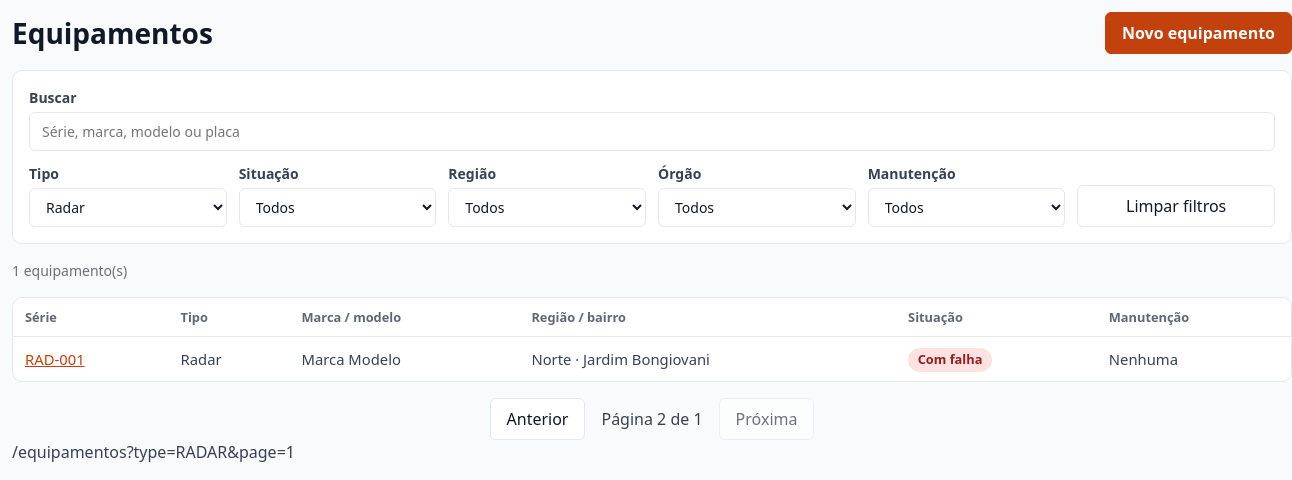
Scenario: EquipmentListPage › deveAtualizarUrlEVoltarParaPrimeiraPaginaQuandoMudaFiltro
The width and height of the screenshot is (1292, 480).
Expected: the link "RAD-001" is shown, [25, 349, 85, 369]
Select "Com falha" in the dropdown labelled "Situação" at (338, 208), box [239, 188, 436, 227]
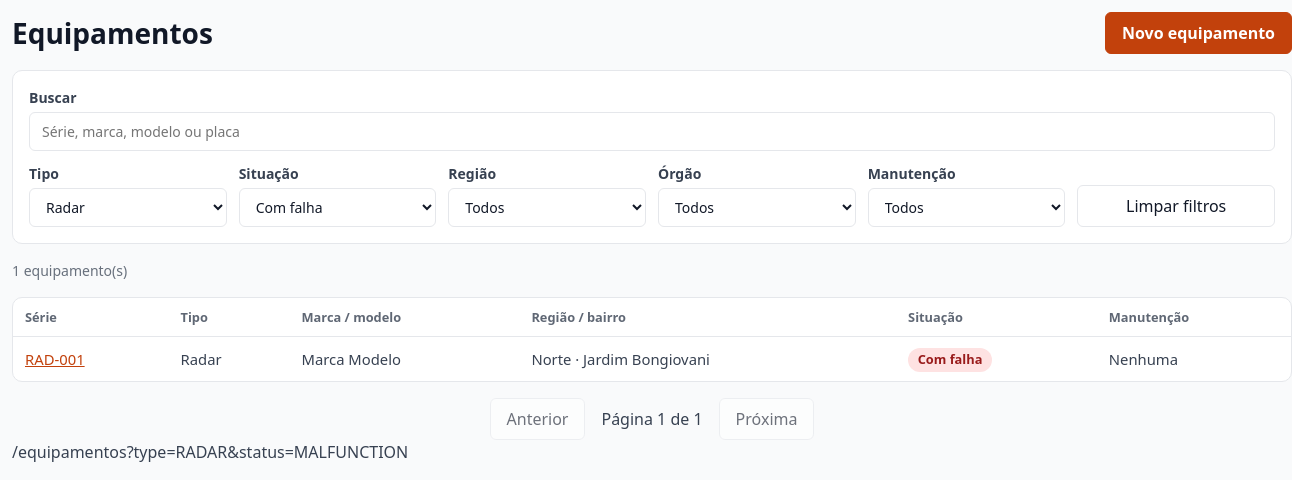
Result: the text with test id "url" shows "status=MALFUNCTION" at [12, 441, 408, 463]
Result: the text with test id "url" no longer shows "page=1"
